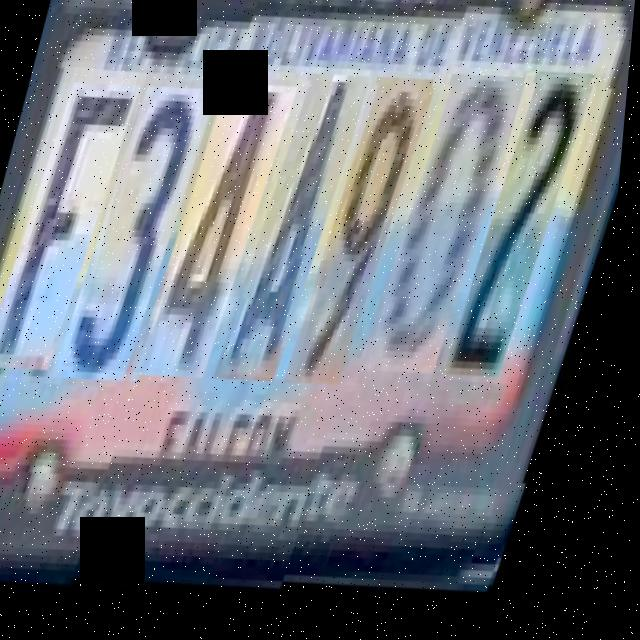2: (453, 78, 602, 403)
3: (68, 66, 227, 382)
4: (145, 73, 304, 388)
9: (297, 72, 445, 397)
A: (227, 66, 378, 392)
F: (0, 61, 148, 368)
O: (370, 76, 534, 399)
